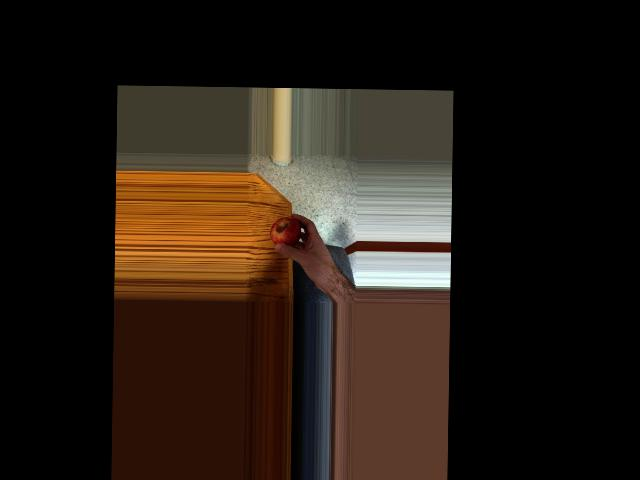apple: (270, 214, 302, 252)
